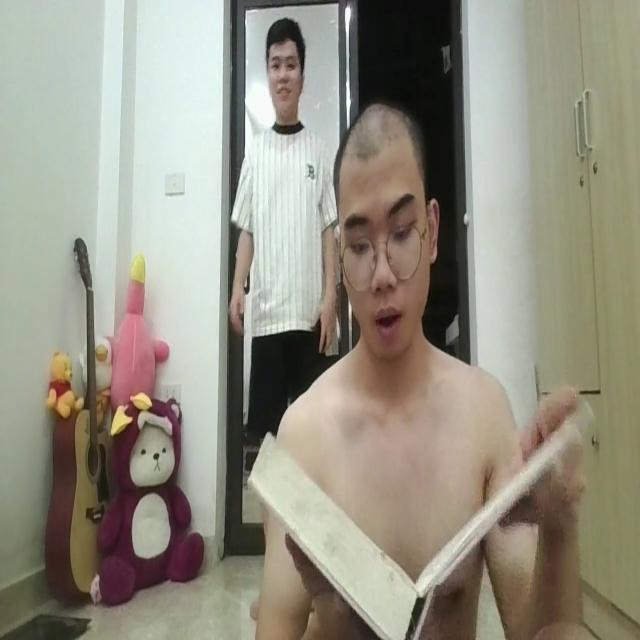book: (234, 411, 590, 636)
extra_person: (234, 18, 352, 501)
student: (274, 108, 522, 640)
